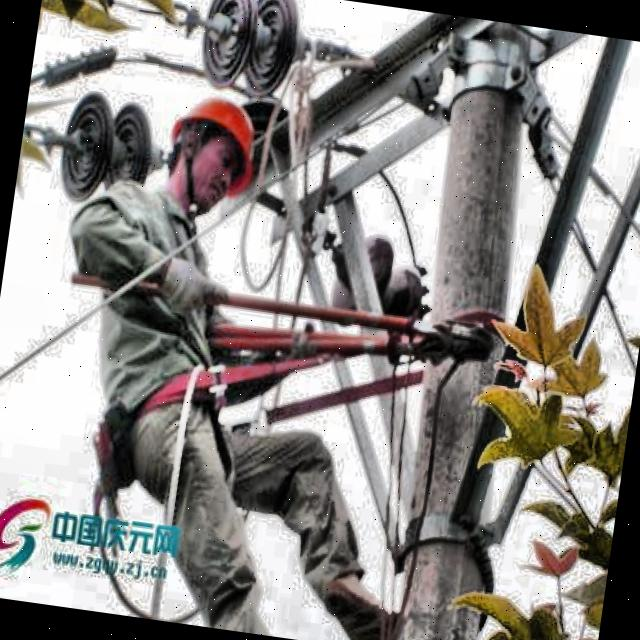helmet: (155, 72, 272, 219)
